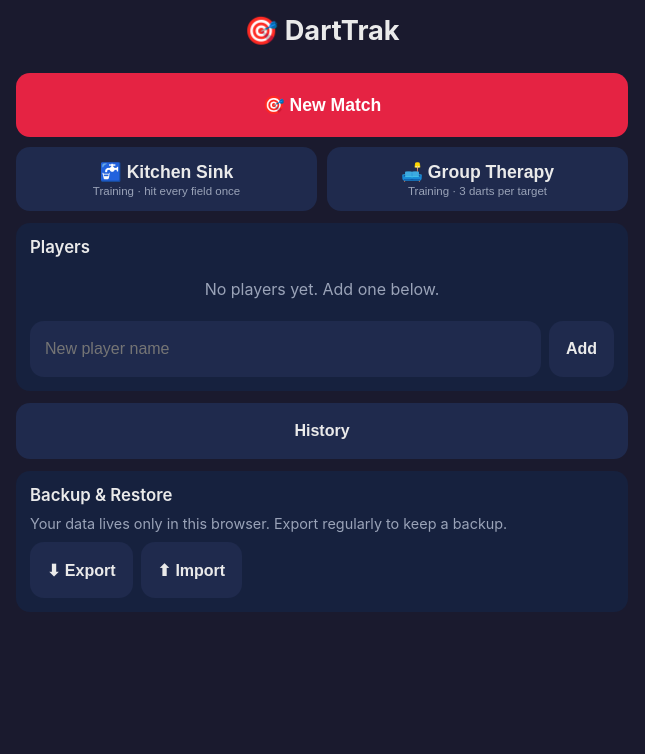
Test: screens render without crashing › Home can add a player
The width and height of the screenshot is (645, 754).
In the field with placeholder "New player name": (285, 349) [30,321,541,377], type "Alice"
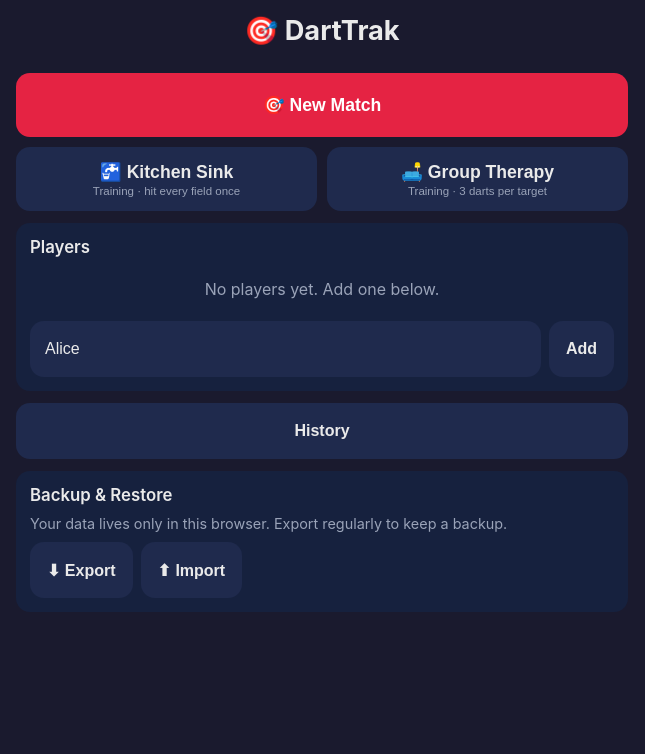
Click the button "Add": (581, 349) [549,321,614,377]
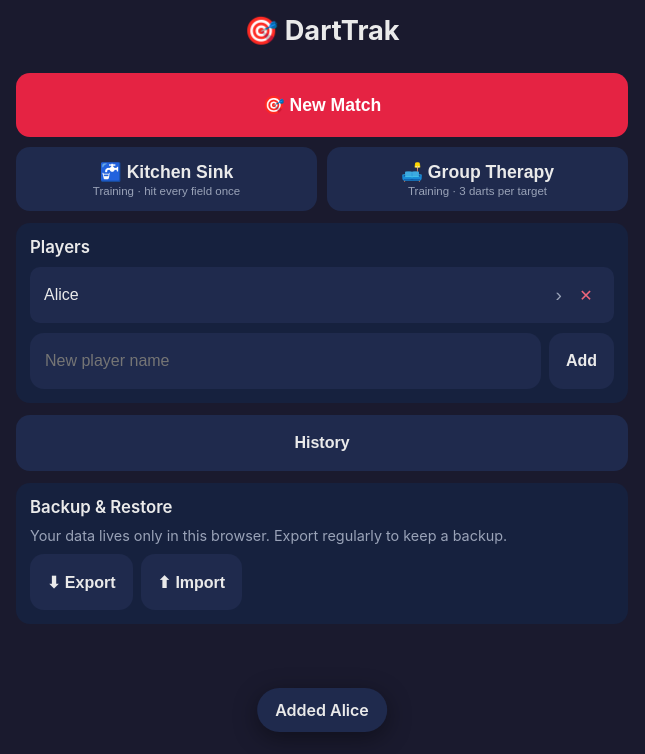
Expected: the text "Alice" is shown, [44,286,79,304]
